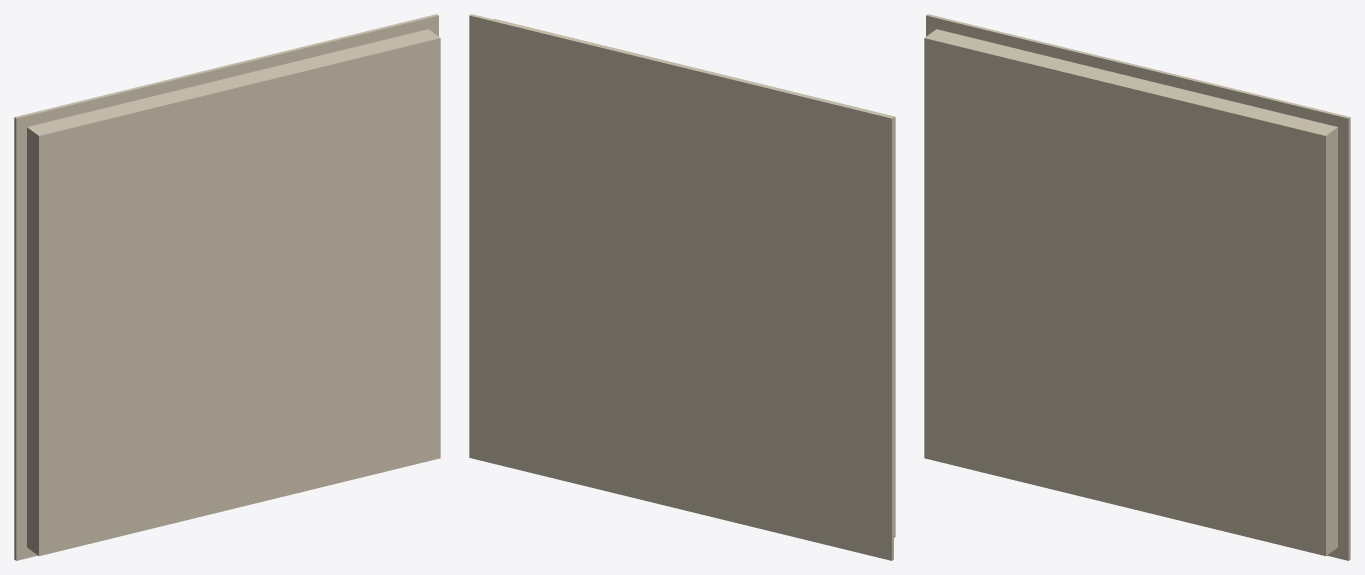
3 renders of one model, left to right at view 1: azimuth 30°, elevation 25°; view 2: azimuth 150°, elevation 25°; view 3: azimuth 330°, elevation 25°, orthographic.
Parts seen in each view (by area): view 1: <组件#14>_1; view 2: <组件#14>_1; view 3: <组件#14>_1.
Part boxes in pixels (box(x1,y1,x2,y2)): <组件#14>_1: box(14, 14, 440, 560); <组件#14>_1: box(469, 14, 895, 560); <组件#14>_1: box(924, 14, 1350, 560).
Size of the model in its own units: 23.62 by 23.62 by 1.38.
